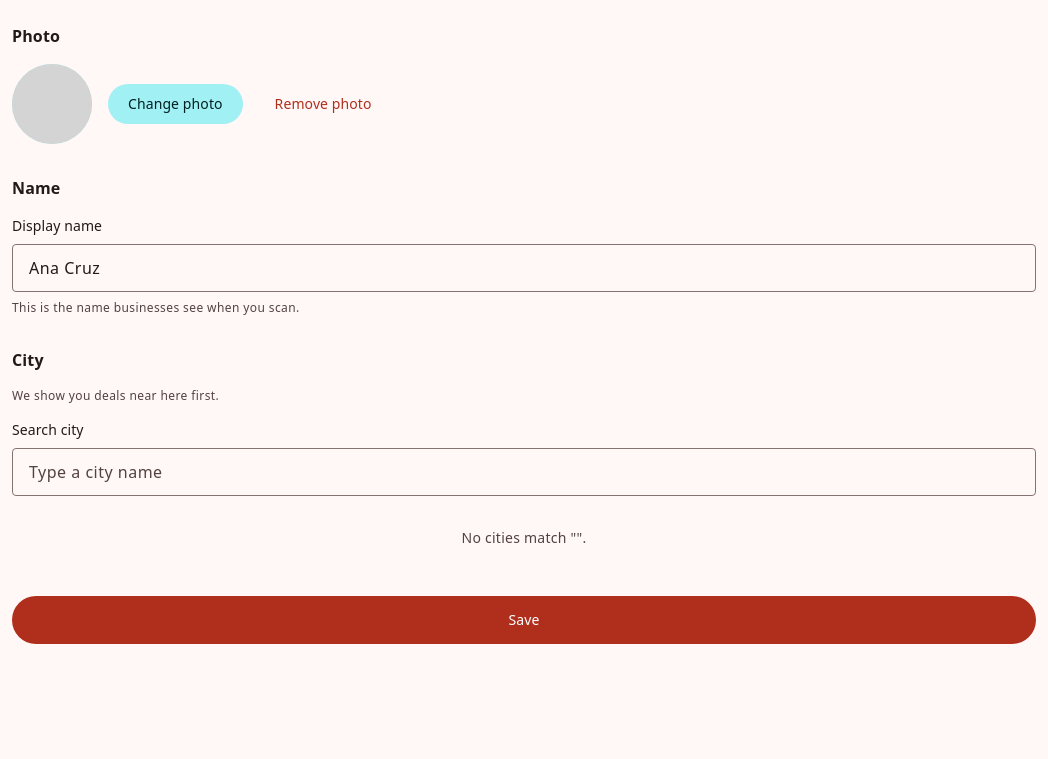
Scenario: ProfileEditForm: the avatar › a failed removal leaves the photo on screen
Click the button "Remove photo". click: x=323, y=104
box: x1=251 y1=84 x2=396 y2=124
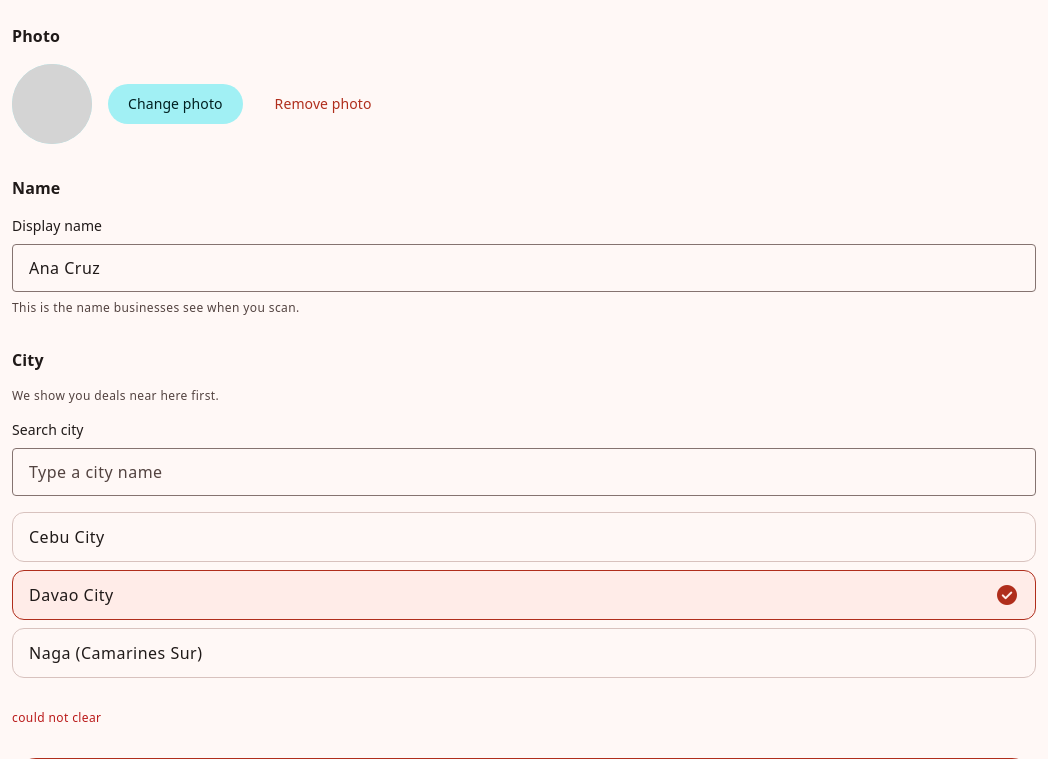
expect the message reads "could not clear": met, box x1=12 y1=709 x2=102 y2=726
